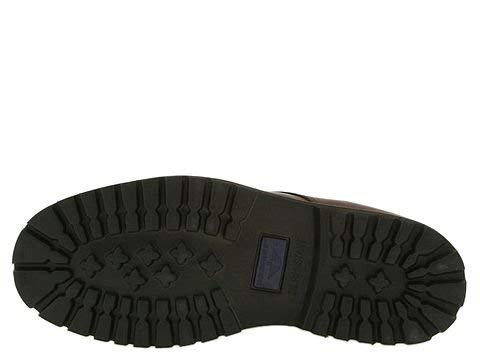bowtie: (74, 241, 173, 345), (157, 172, 246, 277), (328, 255, 419, 351), (48, 279, 113, 351), (403, 278, 472, 340), (118, 287, 179, 351), (129, 171, 187, 231), (325, 208, 371, 260)
star: (74, 241, 173, 345), (157, 172, 246, 277), (328, 255, 419, 351), (78, 241, 111, 282), (364, 265, 399, 300), (194, 246, 229, 280), (330, 258, 362, 293), (132, 239, 165, 270), (152, 262, 184, 290)
